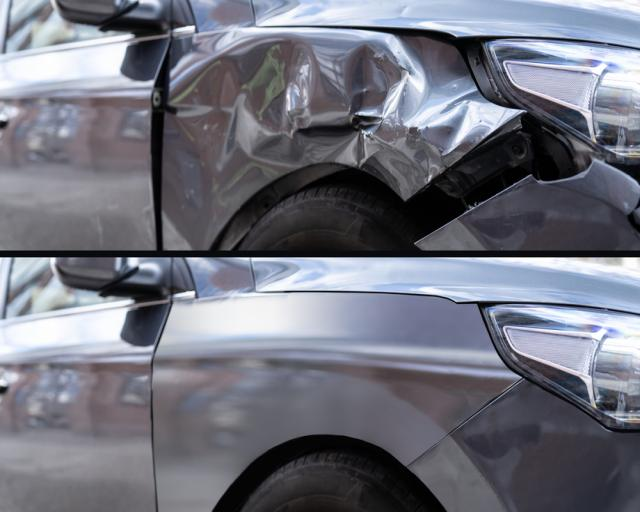dent: (168, 34, 487, 204)
